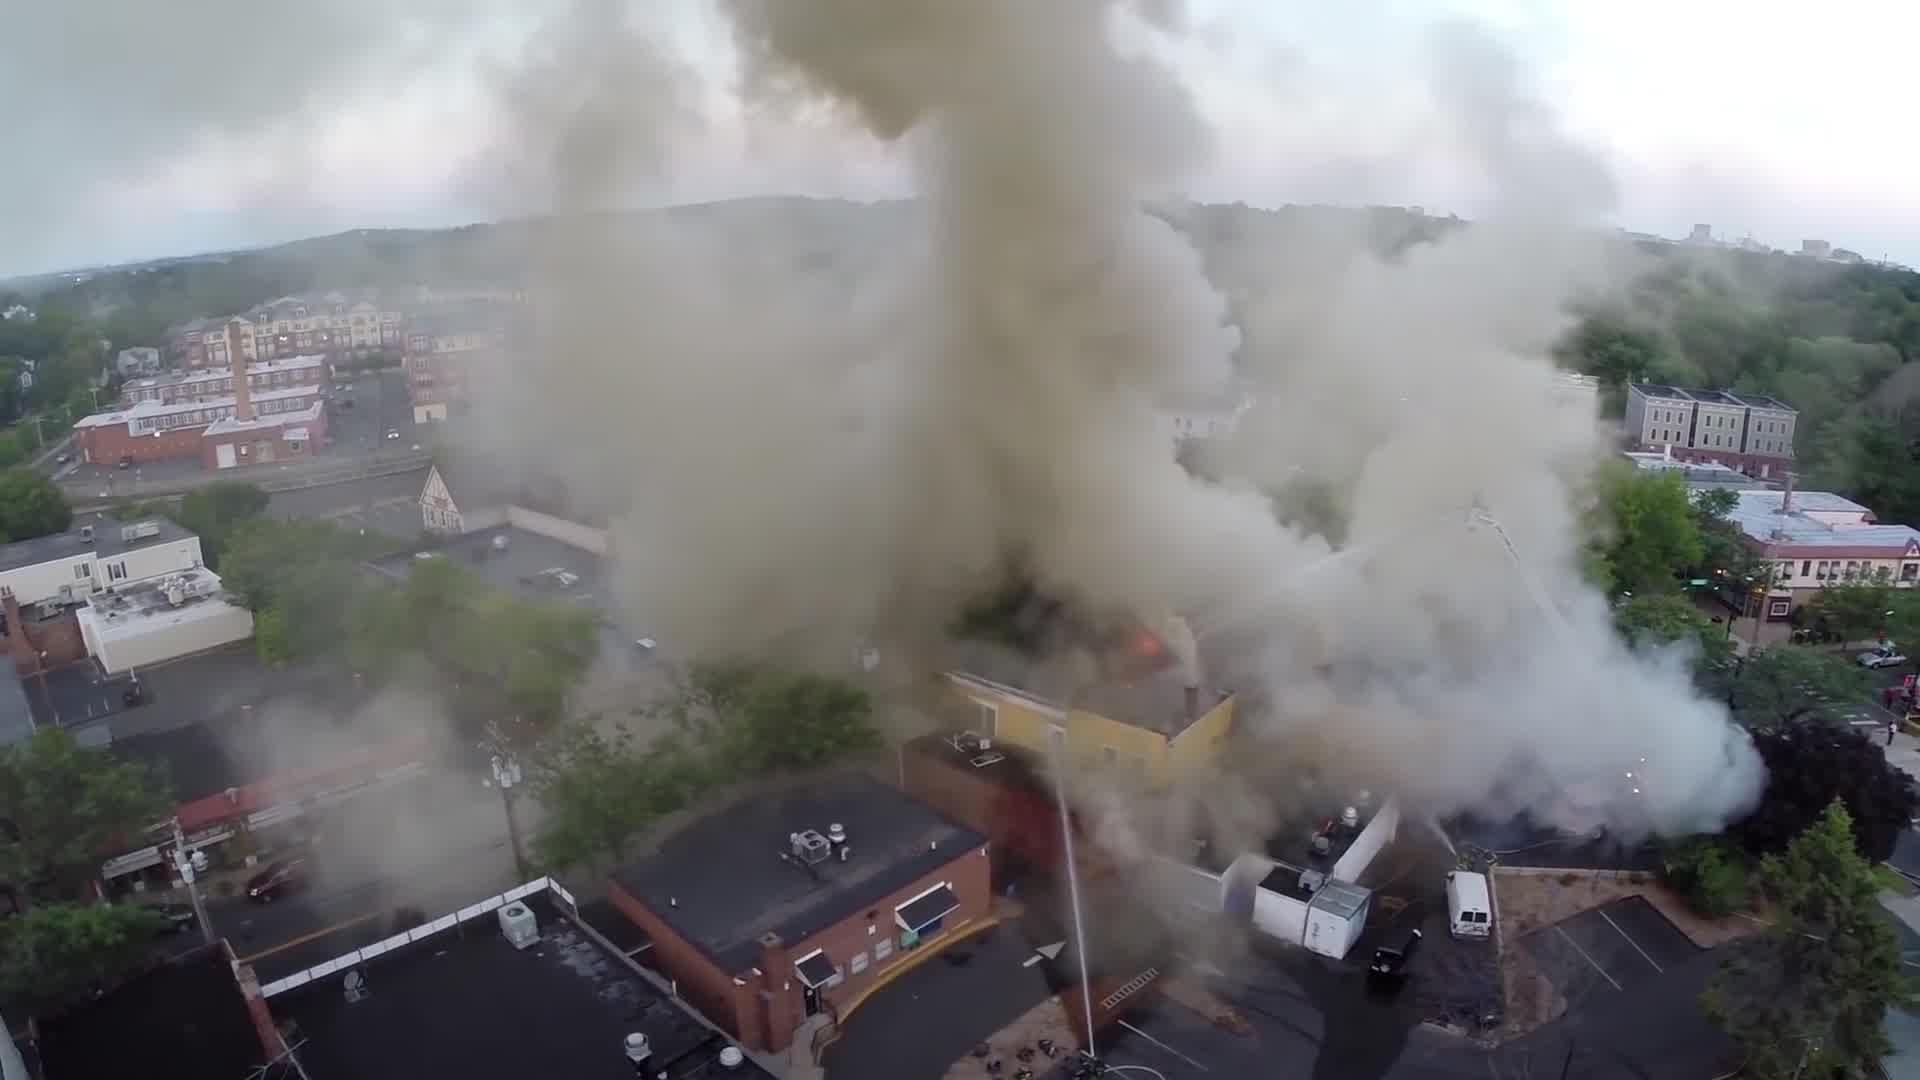smoke: (572, 251, 1607, 620), (777, 18, 1225, 233), (1292, 642, 1705, 800), (251, 723, 485, 866)
